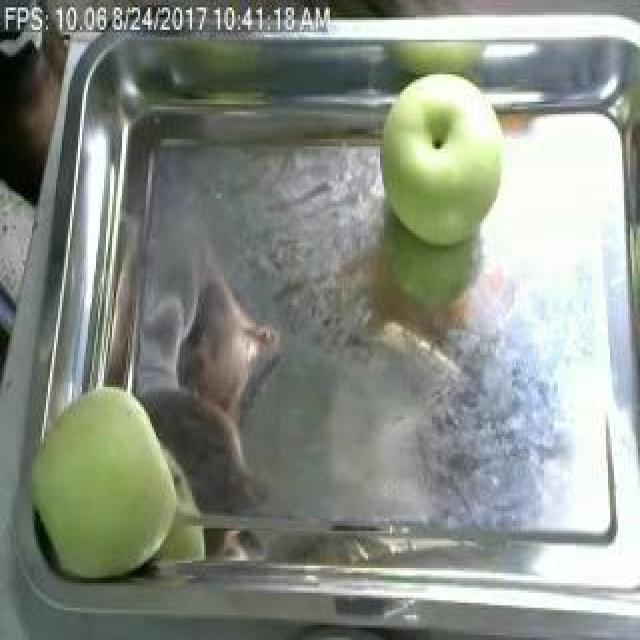Rotten Apple: (34, 382, 180, 580), (373, 67, 511, 233)
